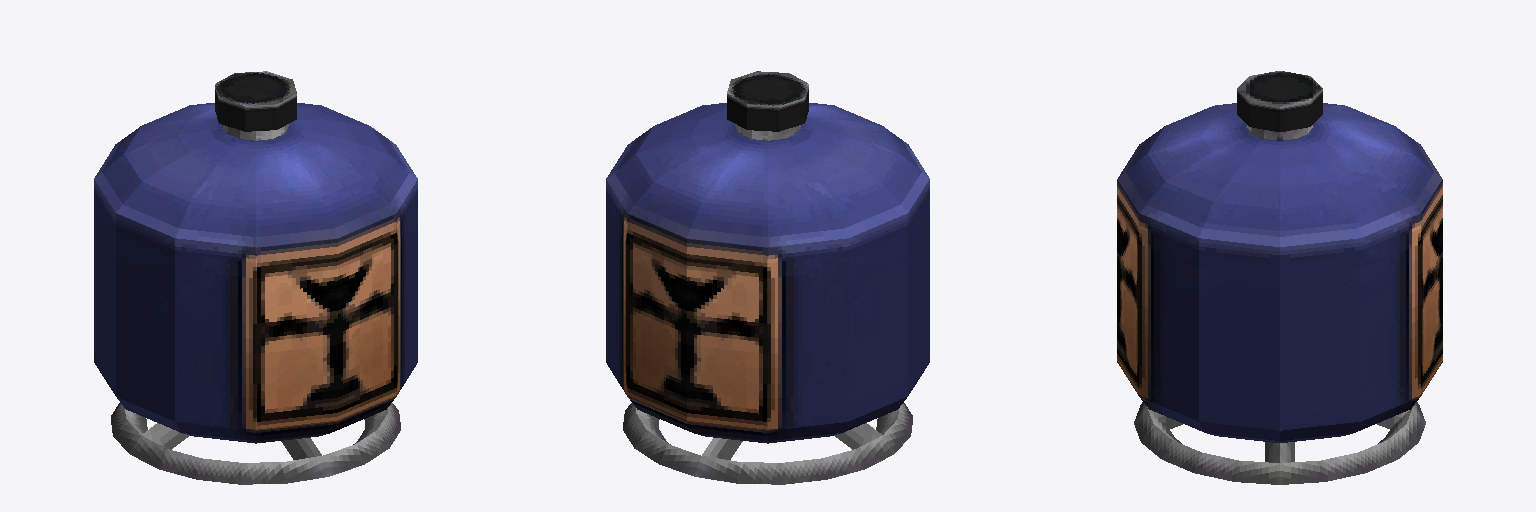
3 renders of one model, left to right at view 1: azimuth 30°, elevation 25°; view 2: azimuth 150°, elevation 25°; view 3: azimuth 270°, elevation 25°, orthographic.
Visible parts, largest first — view 1: default; view 2: default; view 3: default.
Boxes of the visible parts, x1=… form: default: x1=94, y1=71, x2=417, y2=484; default: x1=606, y1=71, x2=929, y2=484; default: x1=1117, y1=71, x2=1442, y2=484.
Bounding box in the file's own units: 21.04 × 24 × 21.15.
1 materials, 1 textured.